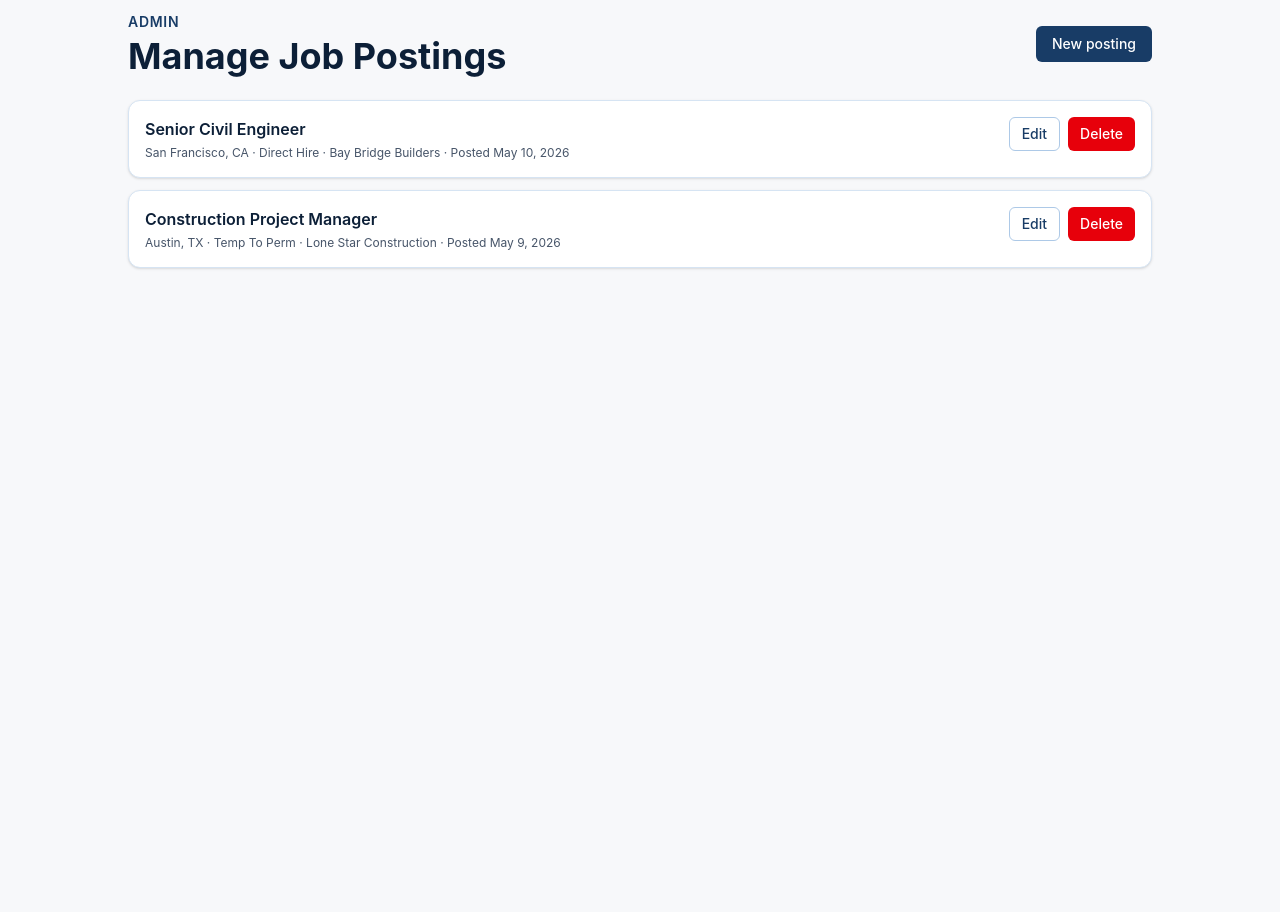
Test case: <AdminJobsPage /> — edit › PATCHes /api/employer/post/:id and updates the row in place
expect the list named "job postings" is shown: met, box [128,100,1152,268]
Click the button "Edit" in the row of "May 10, 2026" at (1034, 134), box [1009,117,1060,151]
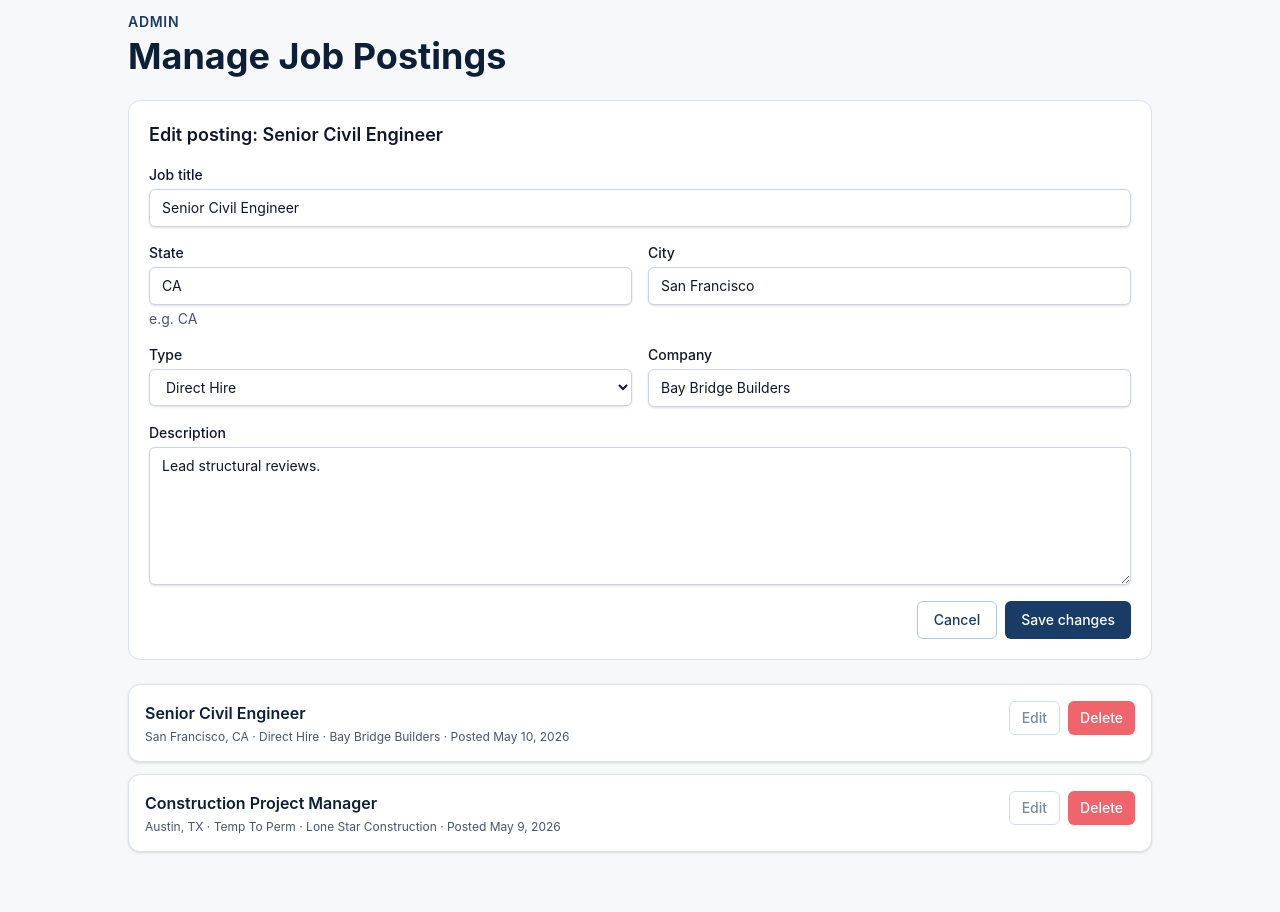
expect the field labelled "Job title" holds "Senior Civil Engineer": met
Replace the text in the field labelled "Job title" with "Lead Civil Engineer" at (640, 208), box [149,189,1131,227]
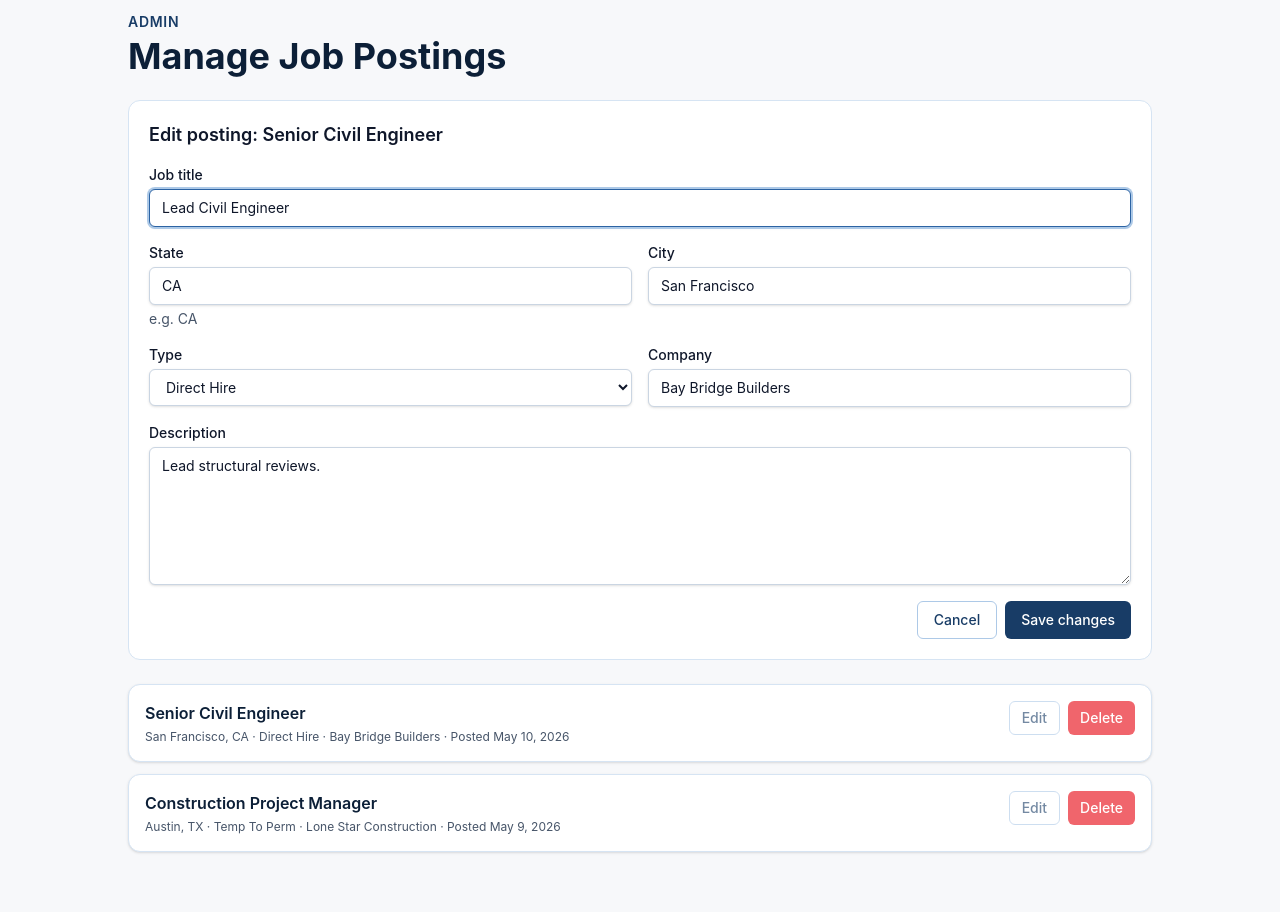
Click the button "Save changes" at (1068, 620), box [1005,601,1131,639]
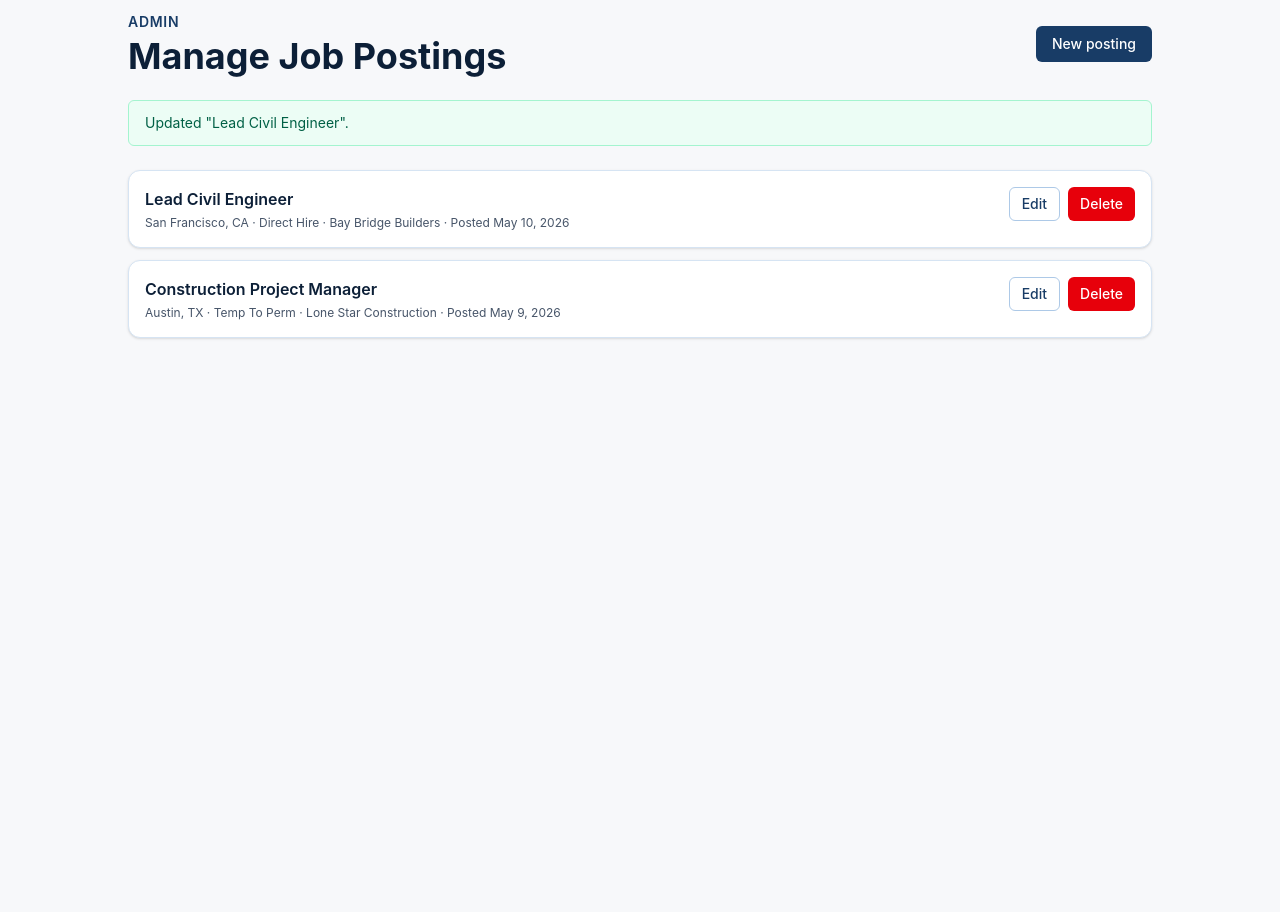
expect the text "Updated \"Lead Civil Engineer\"." is shown: met, box [128,100,1152,146]
expect the heading "Lead Civil Engineer" is shown: met, box [145,189,293,209]
